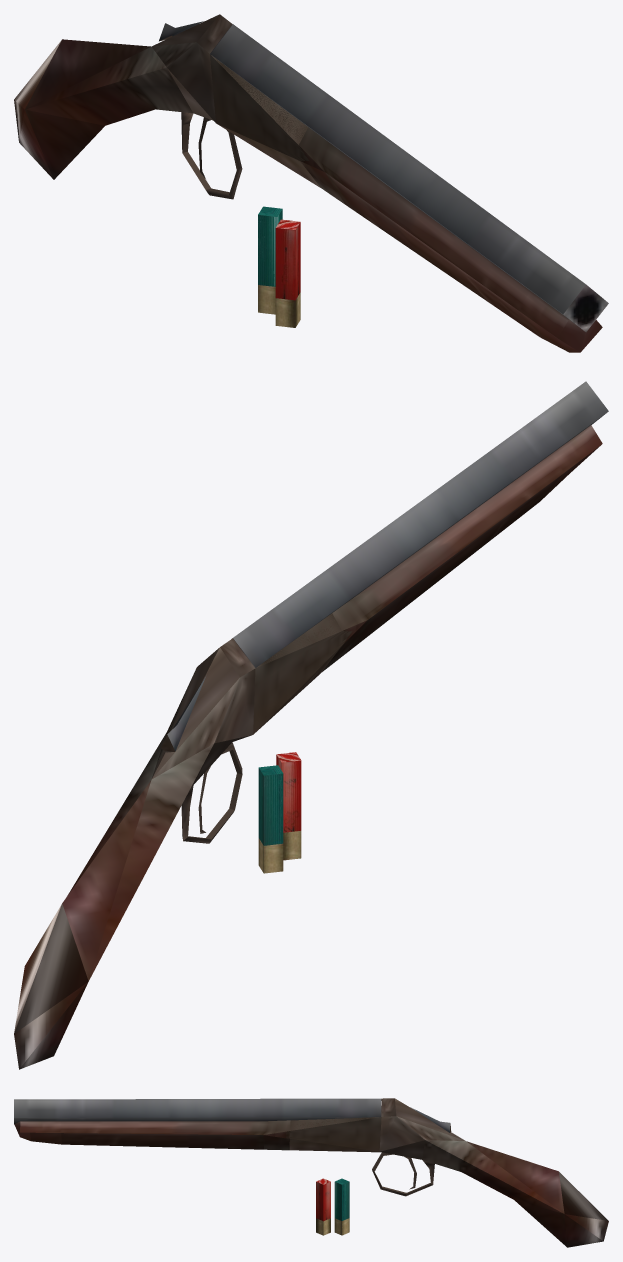
The model's file is sawed_off_one_barrel.obj.
The picture shows the model from 3 angles, top to bottom: view 1: azimuth 30°, elevation 25°; view 2: azimuth 150°, elevation 25°; view 3: azimuth 270°, elevation 25°; orthographic projection. The views are drawn at different scales.
Visible parts, largest first — view 1: HandGaurd.001, Shotgun.002, ShellLowPolyRed.007, ShellLowPolyGreen.007; view 2: Shotgun.002, HandGaurd.001, ShellLowPolyGreen.007, ShellLowPolyRed.007; view 3: HandGaurd.001, Shotgun.002, ShellLowPolyGreen.007, ShellLowPolyRed.007.
Boxes of the visible parts, x1,y1,x2,y2 form: HandGaurd.001: (210,24,608,352); Shotgun.002: (14,14,320,199); ShellLowPolyRed.007: (275,219,300,327); ShellLowPolyGreen.007: (258,206,282,314); Shotgun.002: (14,613,352,1069); HandGaurd.001: (232,381,608,671); ShellLowPolyGreen.007: (258,765,283,873); ShellLowPolyRed.007: (276,752,301,860); HandGaurd.001: (14,1098,381,1150); Shotgun.002: (289,1098,608,1247); ShellLowPolyGreen.007: (334,1178,349,1235); ShellLowPolyRed.007: (316,1178,330,1235).
Bounding box in the file's own units: 0.1231 × 0.5299 × 1.91.
Materials: 3 (3 with a texture image).
